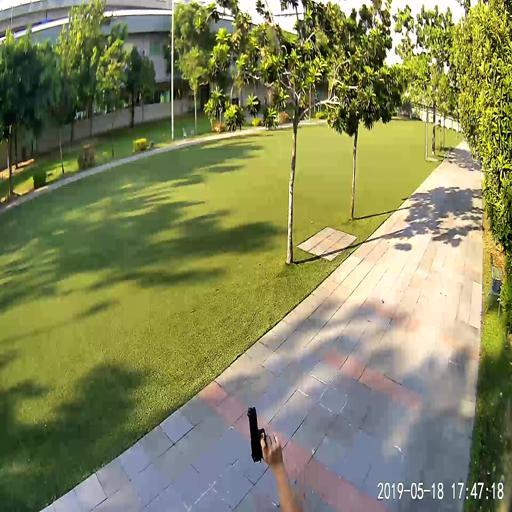Handgun: (246, 404, 267, 465)
